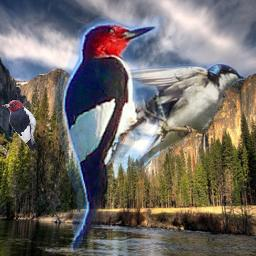Swallow: (102, 61, 245, 170)
Woodpecker: (43, 8, 169, 252), (2, 100, 38, 152)
